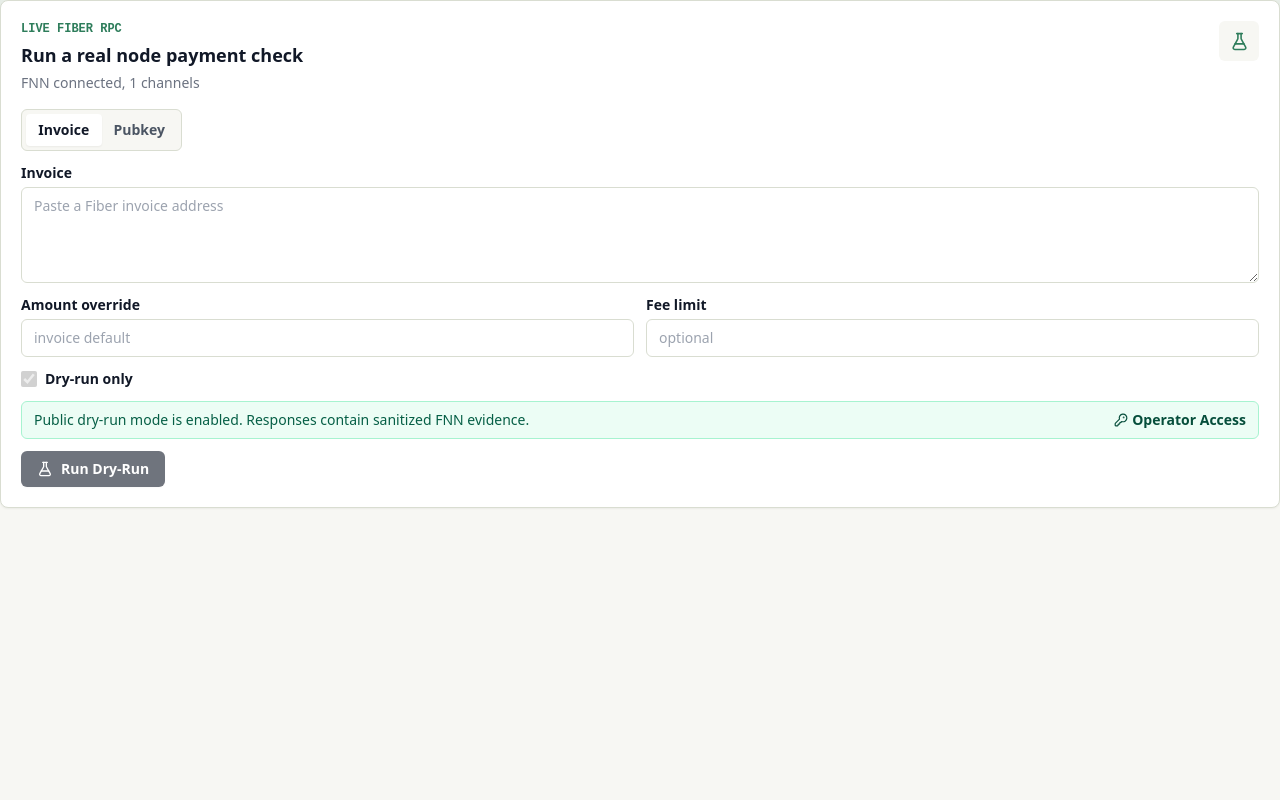
Test: LivePaymentRunner operator access › keeps public mode dry-run only and unlocks masked operator access for the session
The image size is (1280, 800).
Expected: the text "Public dry-run mode is enabled" is shown, [34,410,529,429]
Expected: the checkbox is disabled, [21,371,37,387]
Click the button "Operator Access". click: (1180, 420)
box: [1114,410,1246,430]
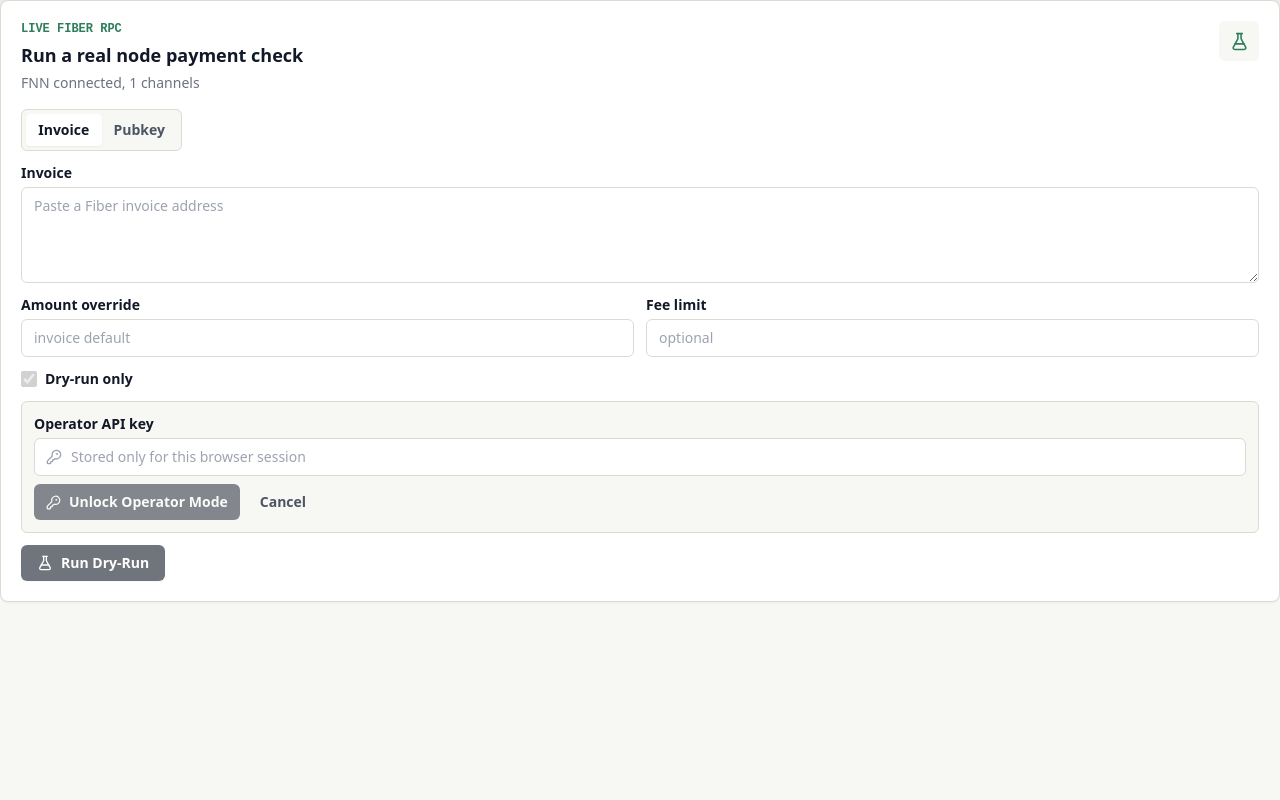
Type "operator-secret" into the password field labelled "Operator API key". click: (640, 457)
box: [34,438,1246,476]
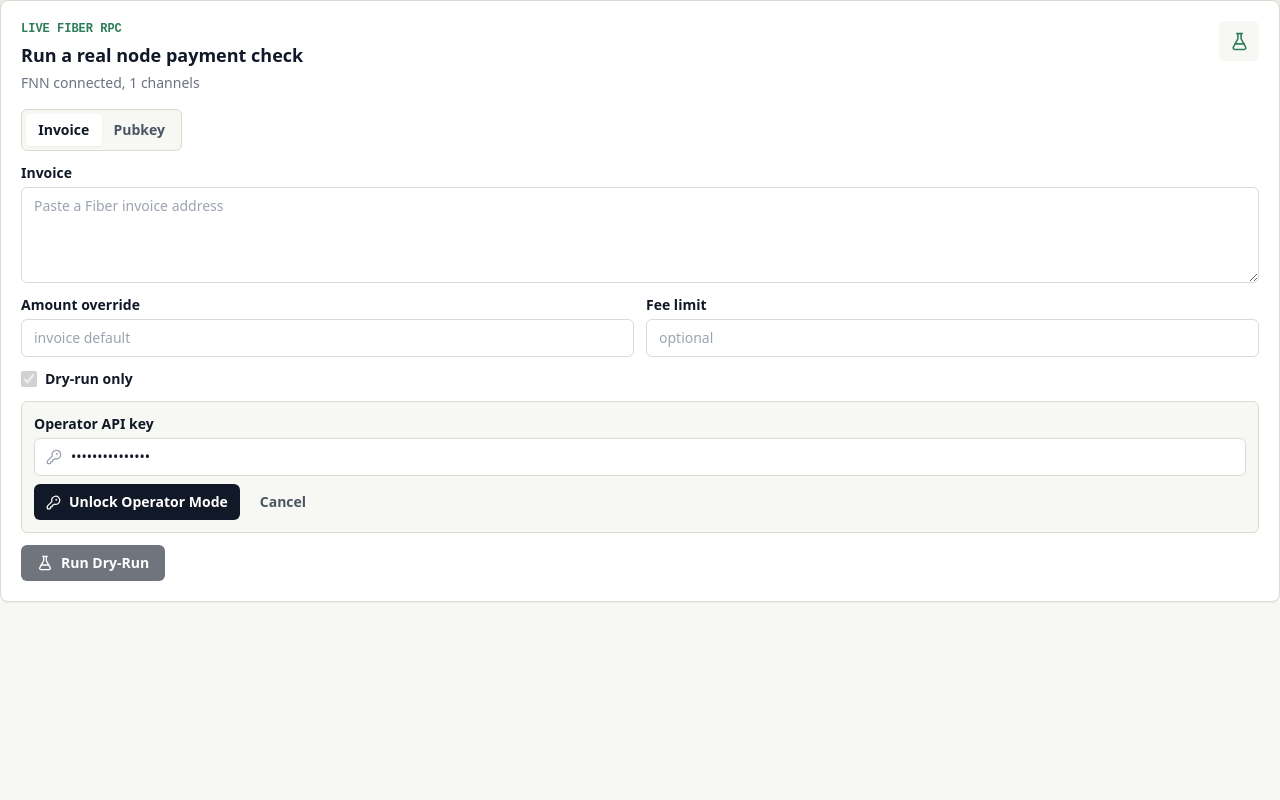
Click the button "Unlock Operator Mode". click: (137, 502)
box: [34,484,240,520]
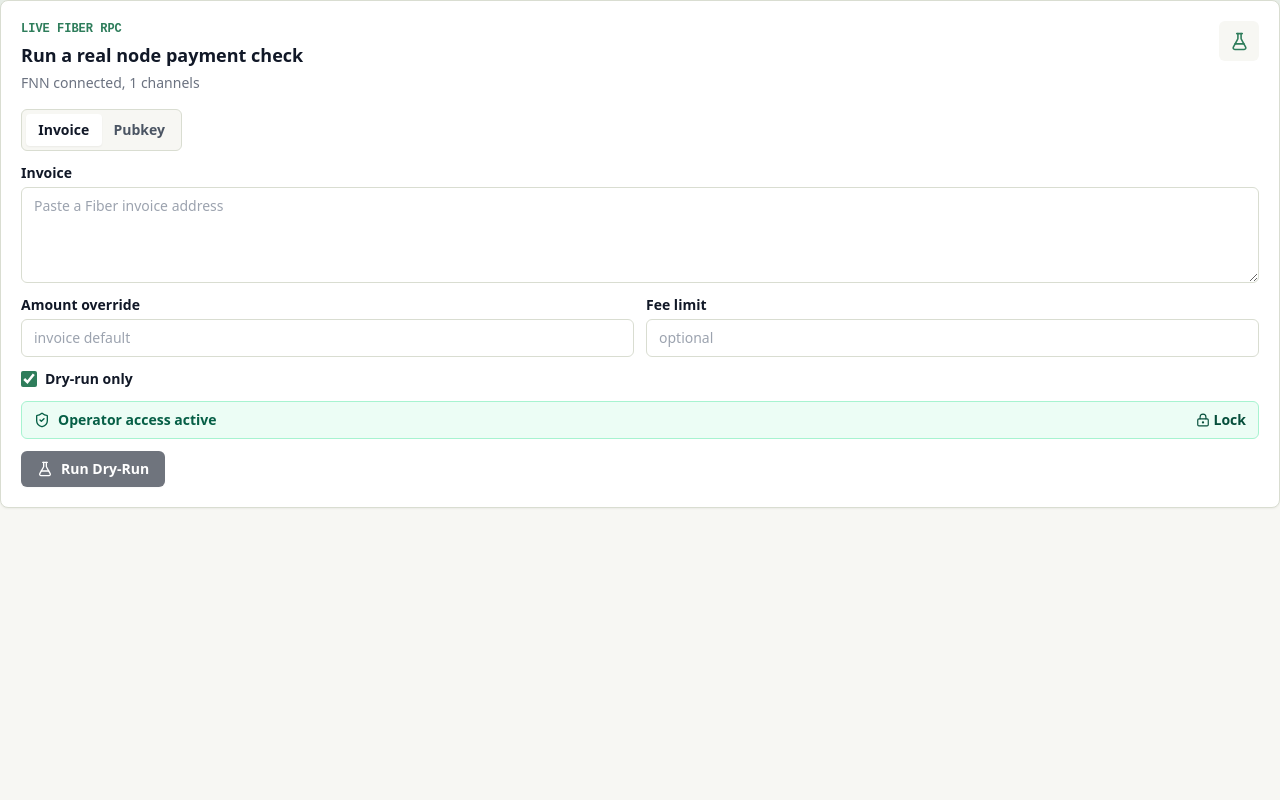
Expected: the text "Operator access active" is shown, [34,410,216,430]
Expected: the checkbox is enabled, [21,371,37,387]
Click the button "Lock". click: (1221, 420)
box: [1196,410,1246,430]
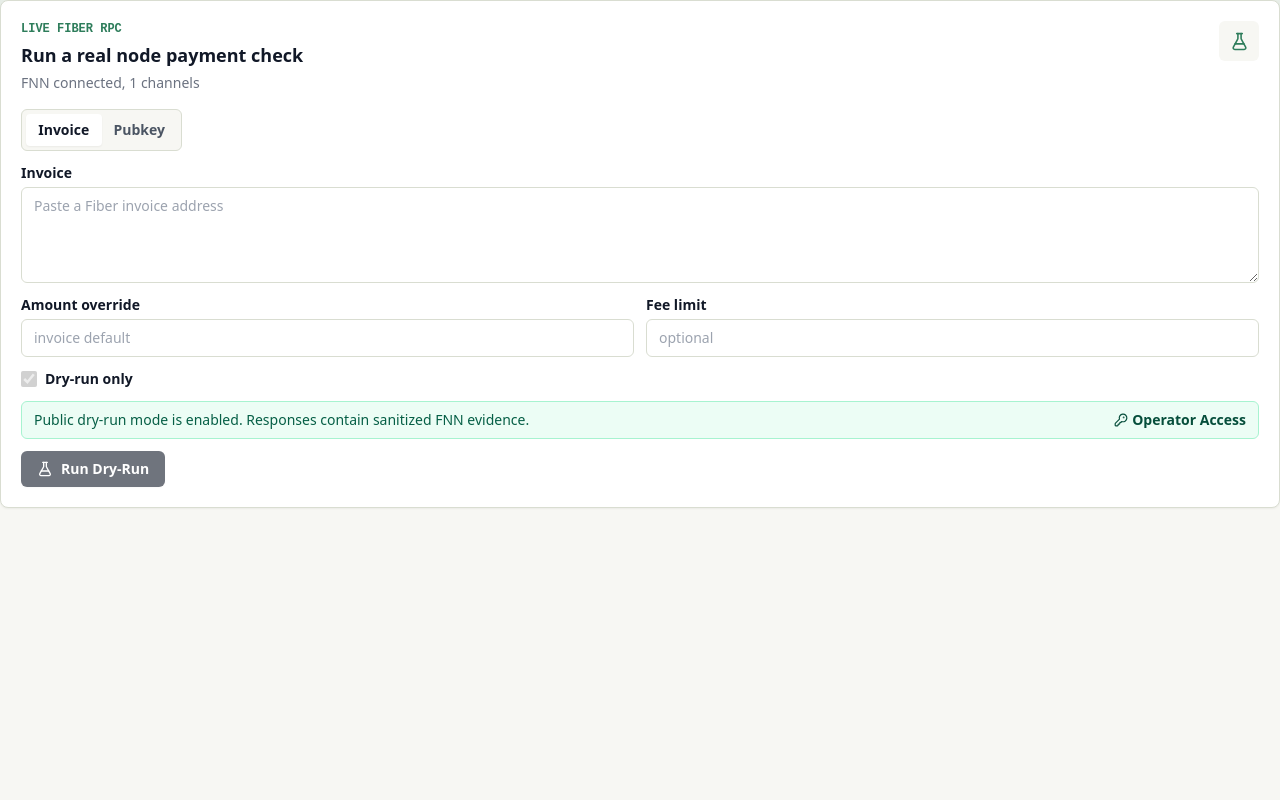
Expected: the text "Public dry-run mode is enabled" is shown, [34,410,529,429]
